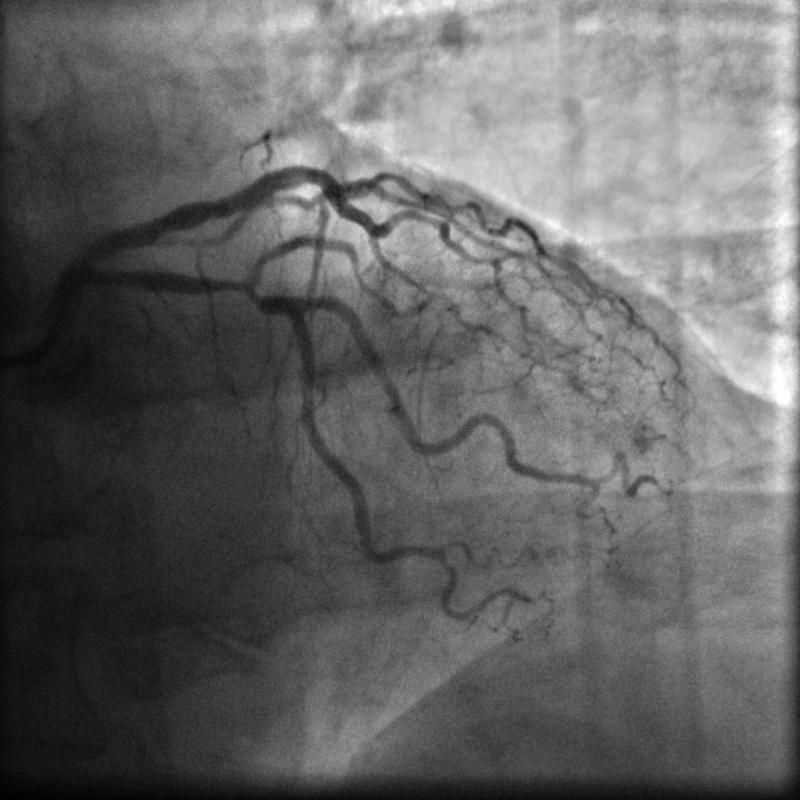Stenosis: (211, 272, 256, 300)
